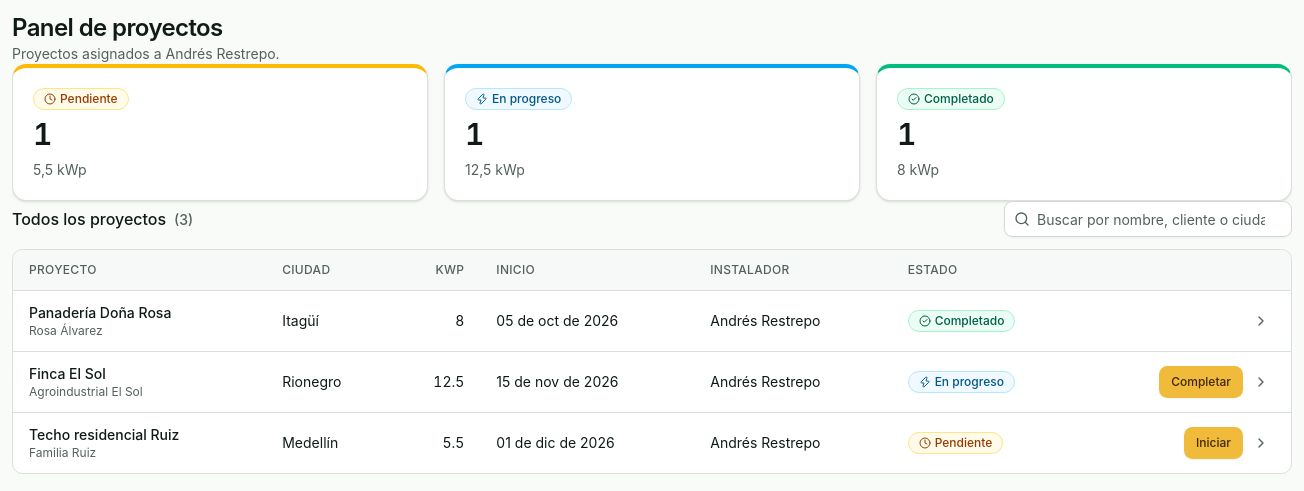
Scenario: Dashboard (UI-01, UI-02, UI-03, UI-05, UI-07) › avanza el estado de forma optimista
This screenshot has width=1304, height=491.
Click the button with aria-label "Iniciar Techo residencial Ruiz": (1214, 443) [1184,427,1243,459]
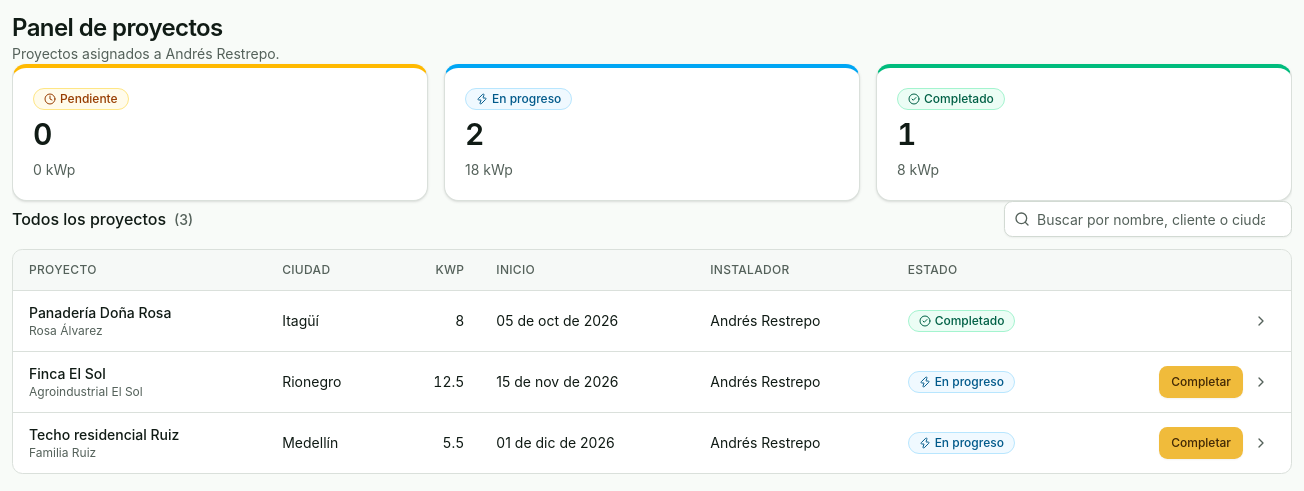
Check: the text "En progreso" in the row of "Techo residencial Ruiz" is shown, box [935,435,1004,450]
Check: the button "Completar" in the row of "Techo residencial Ruiz" is shown, box [1159,427,1243,459]
